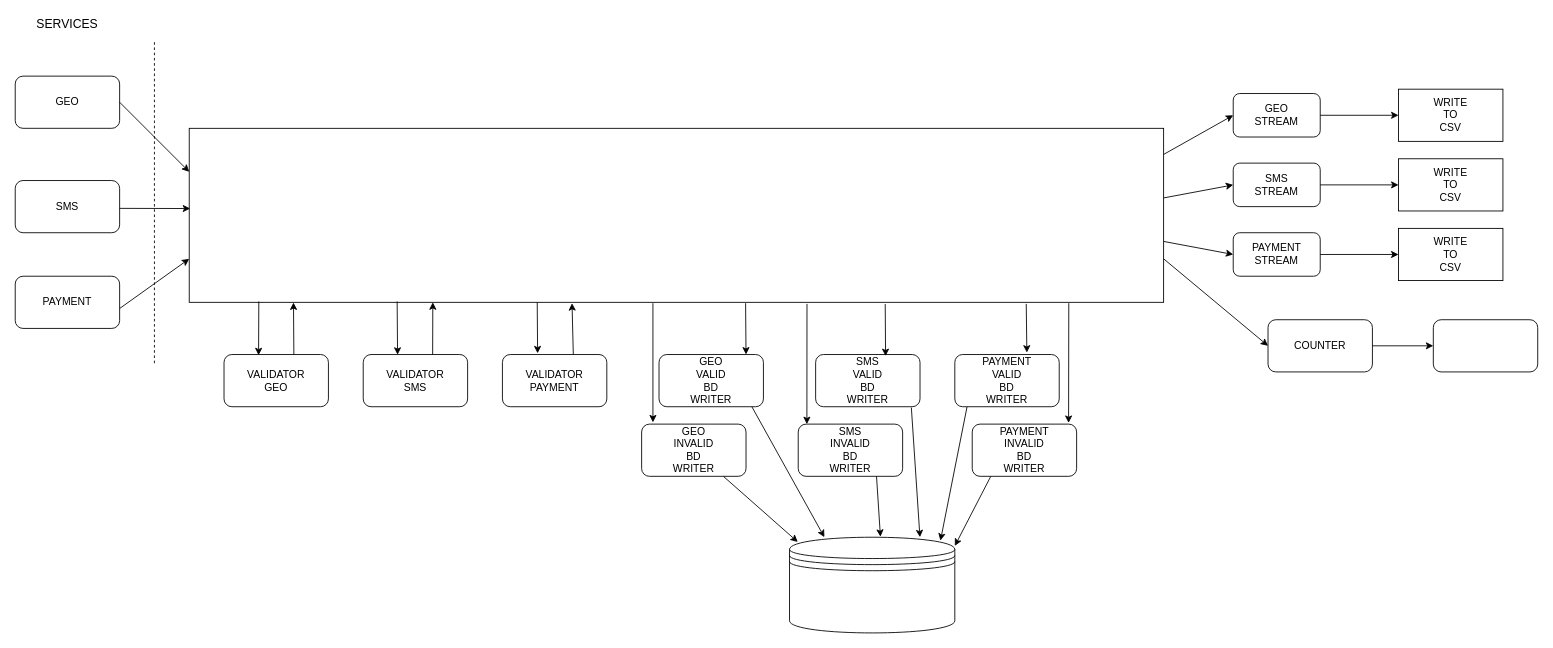
Some shapes in this 1553 by 648 pixel diagram are drawn without their labels. Here are the shapes that lost their labels. From the top down, the centre of each, then its label:
At (x=676, y=214): "KAFKA".
At (x=1485, y=345): "DASHBOARD PROMETHEUS".
At (x=872, y=584): "BD POSTGRESQL".
